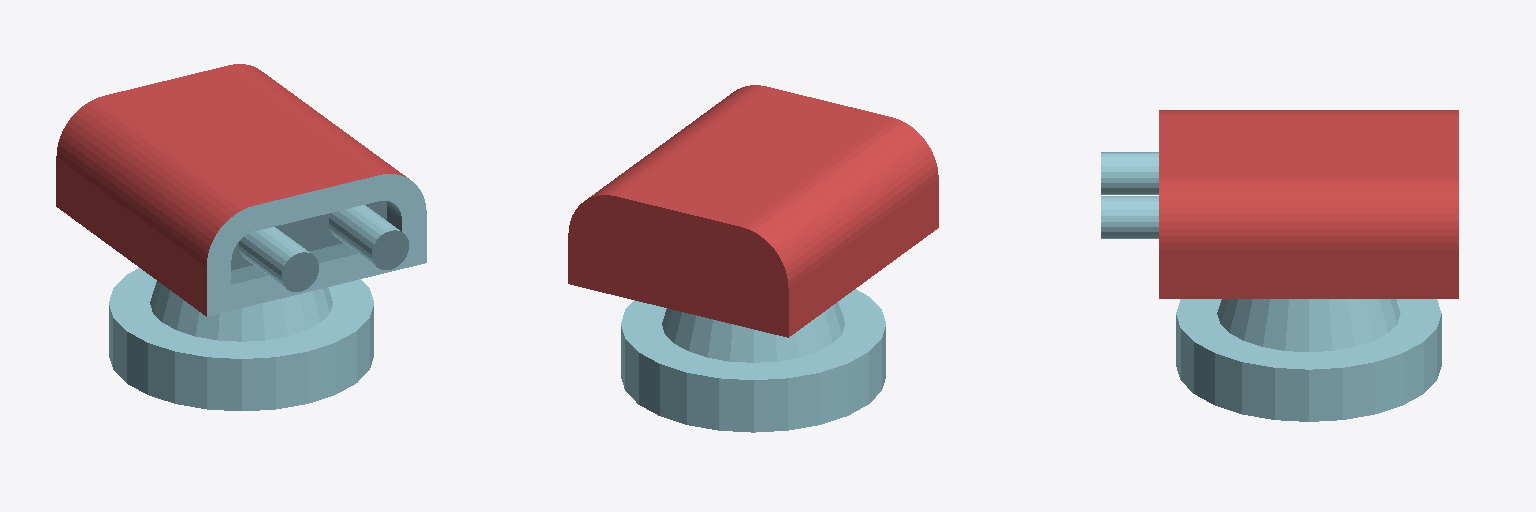
The model's file is weapon_blaster.obj.
The picture shows the model from 3 angles: view 1: azimuth 30°, elevation 25°; view 2: azimuth 150°, elevation 25°; view 3: azimuth 270°, elevation 25°; orthographic projection.
Parts seen in each view (by area): view 1: weapon_blaster; view 2: weapon_blaster; view 3: weapon_blaster.
Part boxes in pixels (x1,y1,x2,y2): weapon_blaster: (56, 64, 426, 410); weapon_blaster: (568, 85, 938, 432); weapon_blaster: (1101, 110, 1458, 421).
Size of the model in its own units: 0.4598 by 0.42 by 0.62.